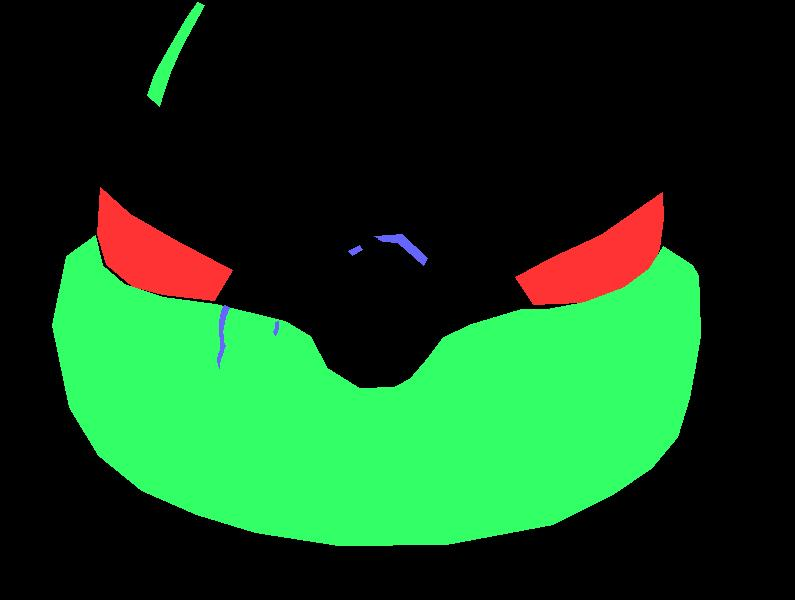Broken part: (52, 235, 700, 545), (147, 2, 204, 106)
Missing part: (155, 435, 601, 520), (515, 192, 663, 304), (97, 187, 232, 300)
Scratch: (374, 234, 427, 265), (378, 235, 423, 261), (217, 305, 229, 368), (348, 245, 362, 255), (273, 321, 278, 335)
